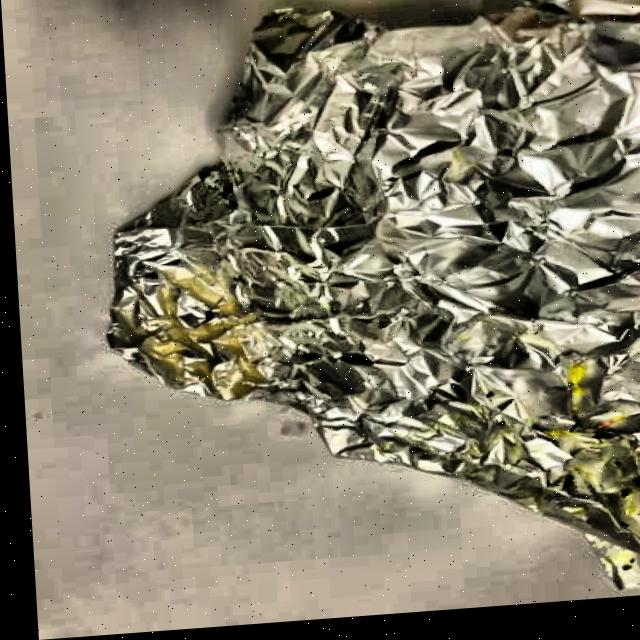metal: (83, 0, 640, 624)
